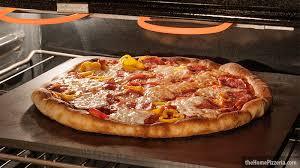pizza: (47, 59, 270, 135)
